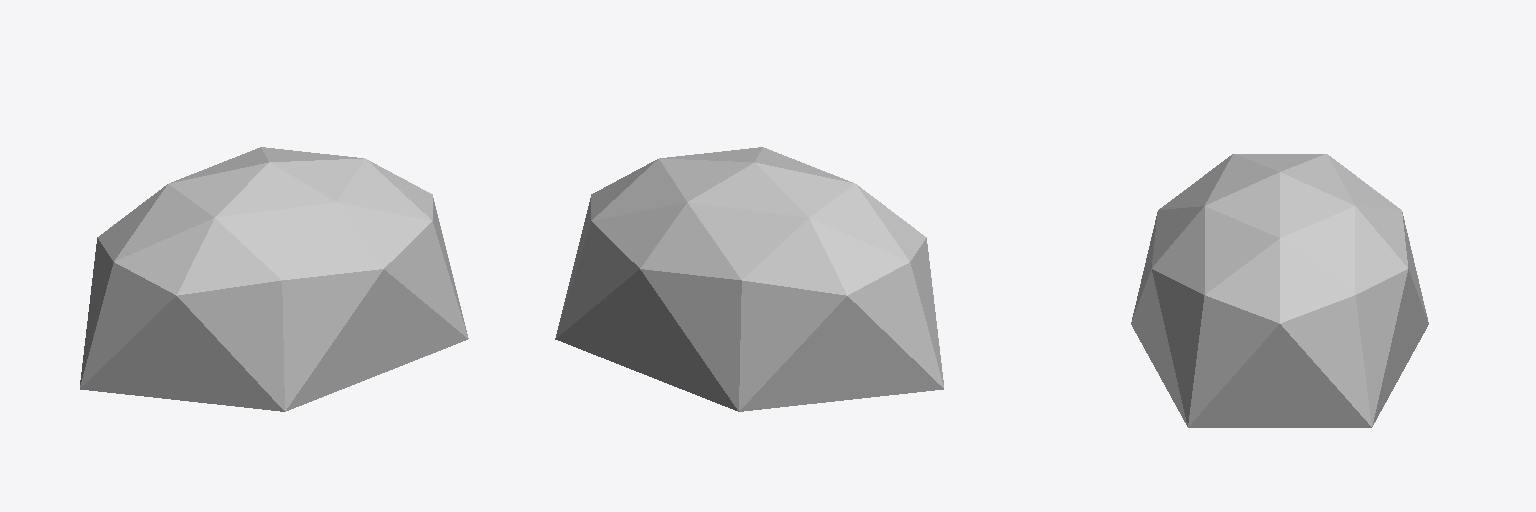
File: rock 3.obj
3 views of the same model, side by side, from view 1: azimuth 30°, elevation 25°; view 2: azimuth 150°, elevation 25°; view 3: azimuth 270°, elevation 25° (orthographic).
Visible parts, largest first — view 1: Icosphere; view 2: Icosphere; view 3: Icosphere.
Boxes of the visible parts, <box> form: Icosphere: <box>80,147,468,411</box>; Icosphere: <box>555,147,943,411</box>; Icosphere: <box>1131,154,1428,427</box>.
Size of the model in its own units: 1.97 by 0.9626 by 1.44.